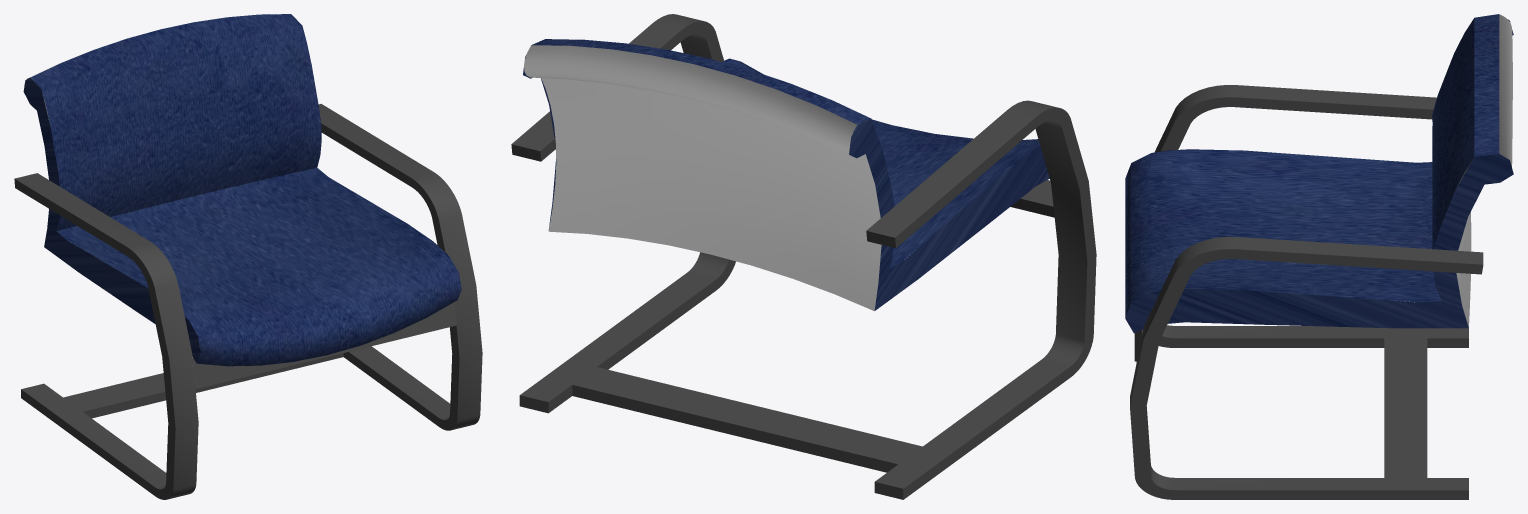
File: sh-contrib-chair2.glb
3 views of the same model, side by side, from view 1: azimuth 30°, elevation 25°; view 2: azimuth 150°, elevation 25°; view 3: azimuth 270°, elevation 25° (orthographic). The views are drawn at different scales.
Visible parts, largest first — view 1: Chair2_2, Chair2_1; view 2: Chair2_3, Chair2_1, Chair2_2; view 3: Chair2_2, Chair2_1, Chair2_3.
Boxes of the visible parts, bbox=[...] form: Chair2_2: bbox=[23, 14, 461, 366]; Chair2_1: bbox=[14, 103, 482, 499]; Chair2_3: bbox=[524, 45, 881, 310]; Chair2_1: bbox=[511, 14, 1096, 499]; Chair2_2: bbox=[523, 39, 1049, 310]; Chair2_2: bbox=[1125, 14, 1513, 333]; Chair2_1: bbox=[1130, 85, 1483, 499]; Chair2_3: bbox=[1456, 14, 1512, 327].
Size of the model in its own units: 1 by 1 by 1.
3 materials, 1 textured.
